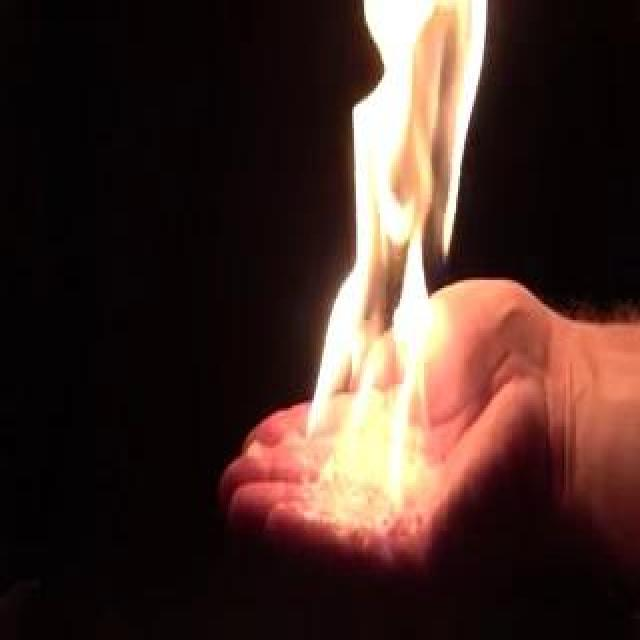Fire: (329, 2, 491, 474)
